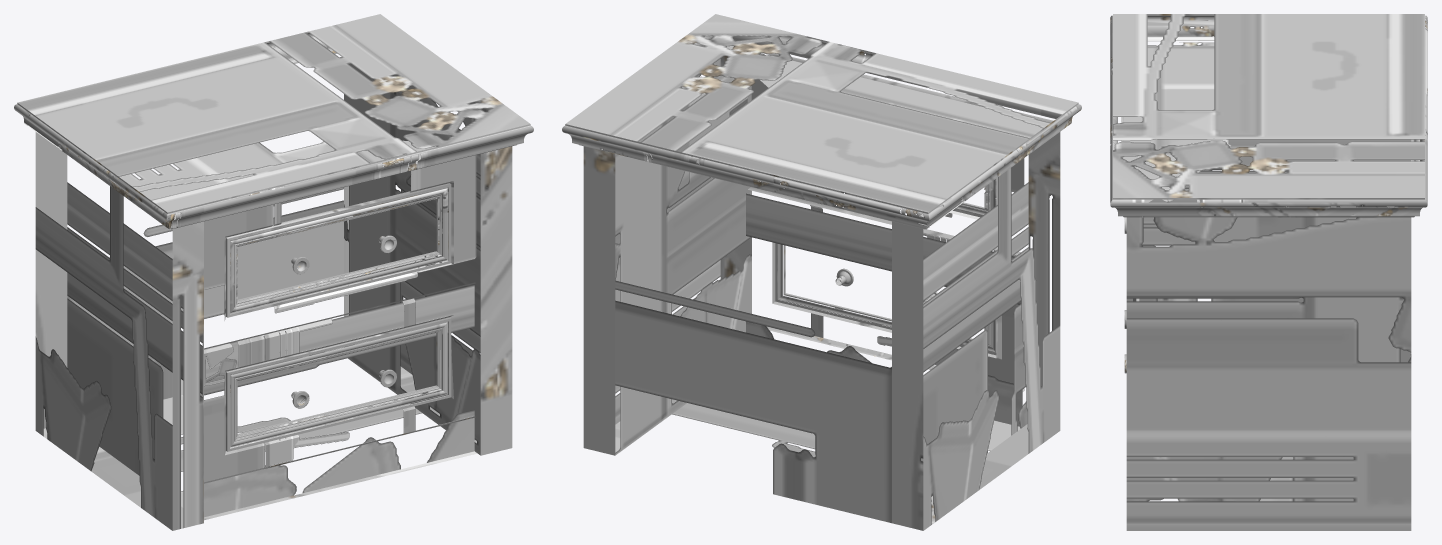
3 renders of one model, left to right at view 1: azimuth 30°, elevation 25°; view 2: azimuth 150°, elevation 25°; view 3: azimuth 270°, elevation 25°, orthographic. The views are drawn at different scales.
Visible parts, largest first — view 1: solid_001, solid_002; view 2: solid_001; view 3: solid_001.
Boxes of the visible parts, x1=… form: solid_001: x1=14, y1=14, x2=533, y2=530; solid_002: x1=291, y1=235, x2=396, y2=408; solid_001: x1=562, y1=14, x2=1081, y2=530; solid_001: x1=1110, y1=14, x2=1427, y2=530.
Bounding box in the file's own units: 1.48 × 1.26 × 1.07.
